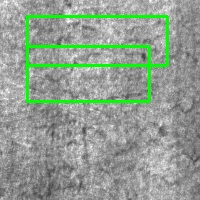crazing: (27, 16, 167, 65), (27, 46, 149, 101)
